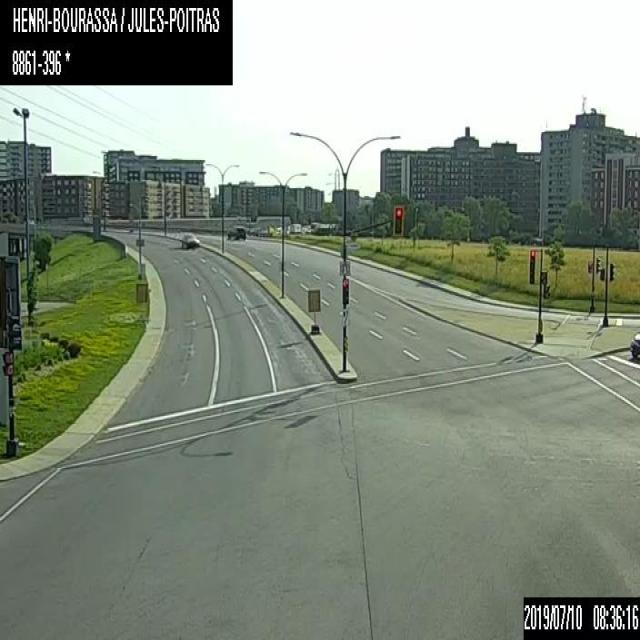vehicle: (226, 222, 248, 238), (181, 231, 198, 248), (629, 330, 639, 358)
